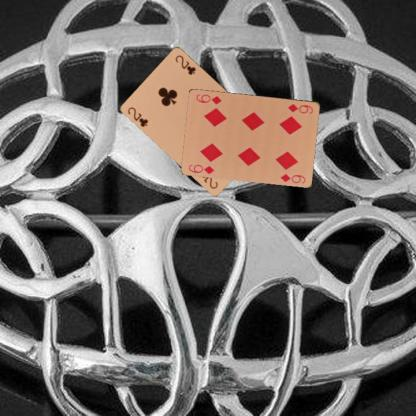2c: (124, 105, 150, 128)
6d: (286, 101, 314, 115), (186, 162, 216, 175)
